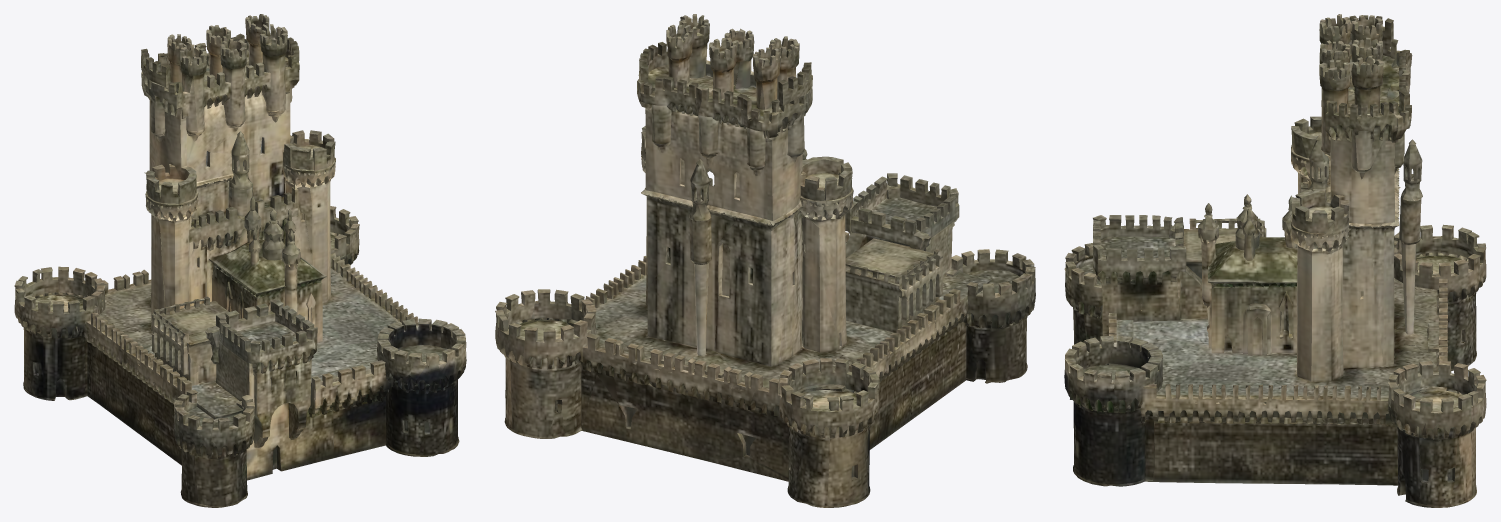
Rendered from keep_castel.glb.
3 renders of one model, left to right at view 1: azimuth 30°, elevation 25°; view 2: azimuth 150°, elevation 25°; view 3: azimuth 270°, elevation 25°, orthographic. The views are drawn at different scales.
Visible parts, largest first — view 1: keep_castel; view 2: keep_castel; view 3: keep_castel.
Boxes of the visible parts, x1,y1,x2,y2 form: keep_castel: (14, 14, 466, 507); keep_castel: (495, 14, 1035, 507); keep_castel: (1064, 14, 1486, 507).
Bounding box in the file's own units: 1.89 × 1.9 × 1.89.
1 material, 1 textured.
